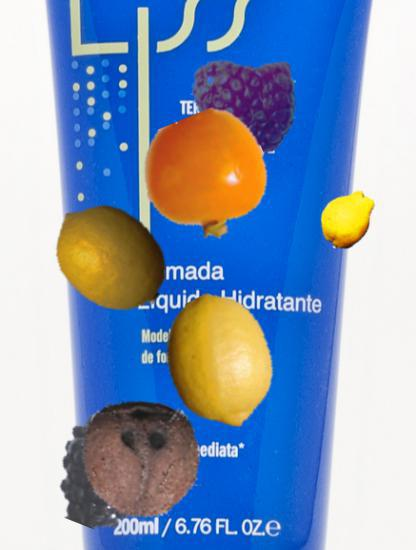Cocos: (76, 393, 206, 523)
Lemon: (152, 295, 287, 430), (49, 196, 174, 321)
Mulberry: (45, 411, 164, 530)
Physalis: (144, 115, 269, 240)
Quince: (315, 187, 378, 250)
Raspberry: (192, 53, 298, 159)
